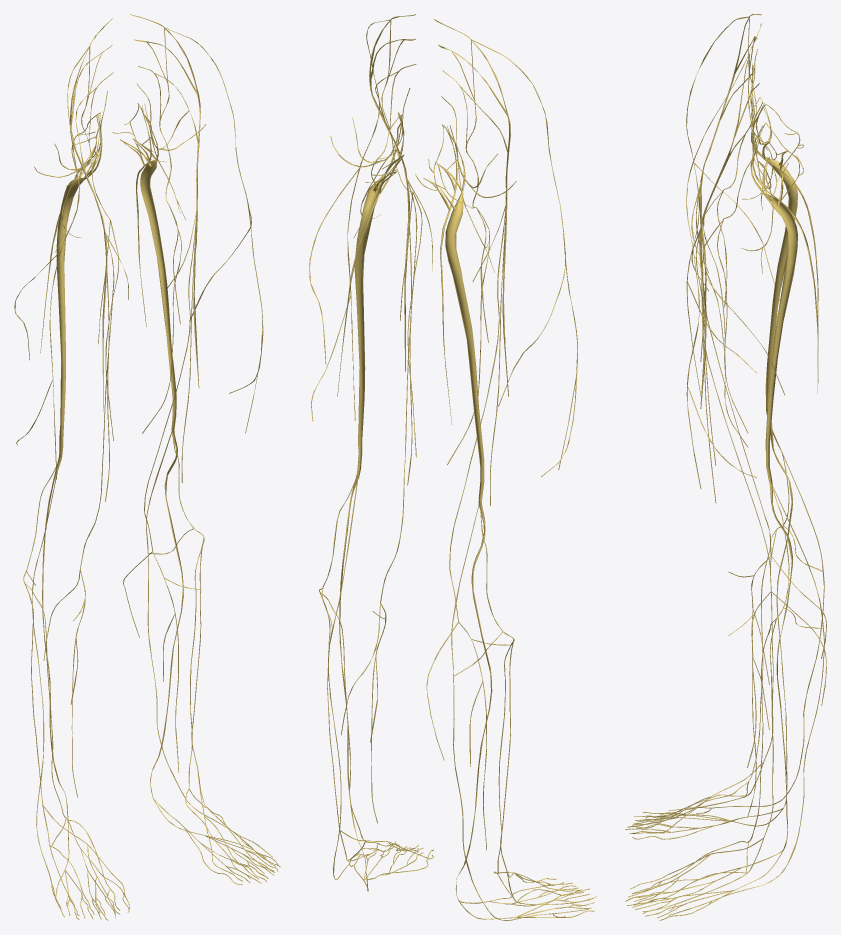
Rendered from lower-limb-nerves.glb.
The picture shows the model from 3 angles, left to right: view 1: azimuth 30°, elevation 25°; view 2: azimuth 150°, elevation 25°; view 3: azimuth 270°, elevation 25°; orthographic projection. The views are drawn at different scales.
Visible parts, largest first — view 1: ZA_sciatic_nerve_r, ZA_sciatic_nerve_l, ZA_femoral_nerve_l, ZA_femoral_nerve_r, ZA_saphenous_nerve_l, ZA_saphenous_nerve_r, ZA_lateral_femoral_cutaneous_nerve_r, ZA_lateral_femoral_cutaneous_nerve_l, ZA_tibial_nerve_l, ZA_tibial_nerve_r, ZA_sural_nerve_l; view 2: ZA_sciatic_nerve_r, ZA_sciatic_nerve_l, ZA_saphenous_nerve_r, ZA_saphenous_nerve_l, ZA_femoral_nerve_r, ZA_lateral_femoral_cutaneous_nerve_l, ZA_lateral_femoral_cutaneous_nerve_r, ZA_femoral_nerve_l, ZA_tibial_nerve_r, ZA_tibial_nerve_l, ZA_sural_nerve_r; view 3: ZA_sciatic_nerve_l, ZA_sciatic_nerve_r, ZA_saphenous_nerve_l, ZA_femoral_nerve_l, ZA_lateral_femoral_cutaneous_nerve_l, ZA_saphenous_nerve_r, ZA_lateral_femoral_cutaneous_nerve_r, ZA_femoral_nerve_r, ZA_tibial_nerve_l, ZA_tibial_nerve_r, ZA_sural_nerve_l, ZA_sural_nerve_r (+1 smaller).
Boxes of the visible parts, <box> form: ZA_sciatic_nerve_r: <box>56,114,100,456</box>; ZA_sciatic_nerve_l: <box>120,105,176,428</box>; ZA_femoral_nerve_l: <box>130,14,200,387</box>; ZA_femoral_nerve_r: <box>70,18,112,411</box>; ZA_saphenous_nerve_l: <box>123,211,197,772</box>; ZA_saphenous_nerve_r: <box>43,234,114,797</box>; ZA_lateral_femoral_cutaneous_nerve_r: <box>14,45,89,479</box>; ZA_lateral_femoral_cutaneous_nerve_l: <box>164,27,263,433</box>; ZA_tibial_nerve_l: <box>150,428,183,796</box>; ZA_tibial_nerve_r: <box>42,456,68,817</box>; ZA_sural_nerve_l: <box>146,514,272,857</box>; ZA_sciatic_nerve_r: <box>424,126,484,499</box>; ZA_sciatic_nerve_l: <box>354,113,401,469</box>; ZA_saphenous_nerve_r: <box>426,213,505,850</box>; ZA_saphenous_nerve_l: <box>341,180,417,823</box>; ZA_femoral_nerve_r: <box>434,18,510,396</box>; ZA_lateral_femoral_cutaneous_nerve_l: <box>309,19,390,421</box>; ZA_lateral_femoral_cutaneous_nerve_r: <box>471,39,577,476</box>; ZA_femoral_nerve_l: <box>369,14,415,371</box>; ZA_tibial_nerve_r: <box>455,499,492,900</box>; ZA_tibial_nerve_l: <box>339,469,366,877</box>; ZA_sural_nerve_r: <box>451,623,588,920</box>; ZA_sciatic_nerve_l: <box>750,124,797,481</box>; ZA_sciatic_nerve_r: <box>751,103,797,426</box>; ZA_saphenous_nerve_l: <box>696,230,826,817</box>; ZA_femoral_nerve_l: <box>699,23,761,408</box>; ZA_lateral_femoral_cutaneous_nerve_l: <box>686,53,784,488</box>; ZA_saphenous_nerve_r: <box>696,188,826,767</box>; ZA_lateral_femoral_cutaneous_nerve_r: <box>686,16,784,395</box>; ZA_femoral_nerve_r: <box>699,14,761,361</box>; ZA_tibial_nerve_l: <box>769,481,792,849</box>; ZA_tibial_nerve_r: <box>770,426,792,807</box>; ZA_sural_nerve_l: <box>668,580,824,915</box>; ZA_sural_nerve_r: <box>669,529,824,813</box>.
Bounding box in the file's own units: 0.3076 × 1.06 × 0.2282.
